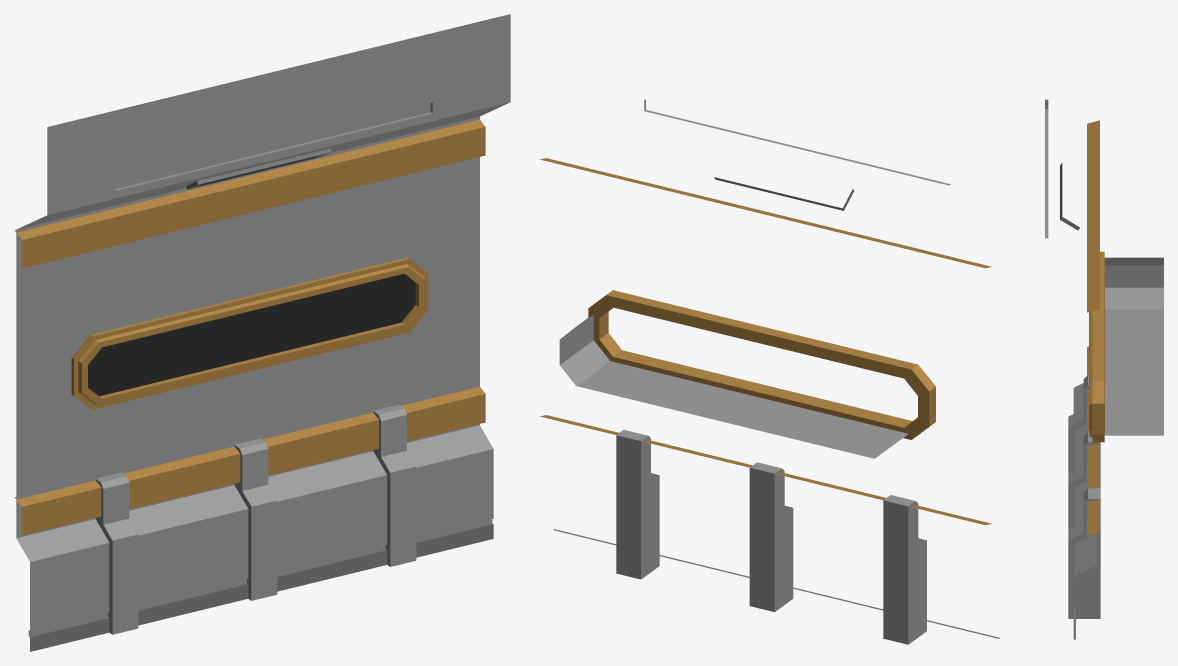
The model's file is LongWindow_Wall_SideA.glb.
3 views of the same model, side by side, from view 1: azimuth 30°, elevation 25°; view 2: azimuth 150°, elevation 25°; view 3: azimuth 270°, elevation 25° (orthographic). The views are drawn at different scales.
Parts seen in each view (by area): view 1: LongWindow_Wall_SideA_Plane.040; view 2: LongWindow_Wall_SideA_Plane.040; view 3: LongWindow_Wall_SideA_Plane.040.
Part boxes in pixels (x1,y1,x2,y2): LongWindow_Wall_SideA_Plane.040: (14,14,510,651); LongWindow_Wall_SideA_Plane.040: (539,99,999,644); LongWindow_Wall_SideA_Plane.040: (1045,99,1163,639).
Bounding box in the file's own units: 4 × 4.43 × 1.06.
